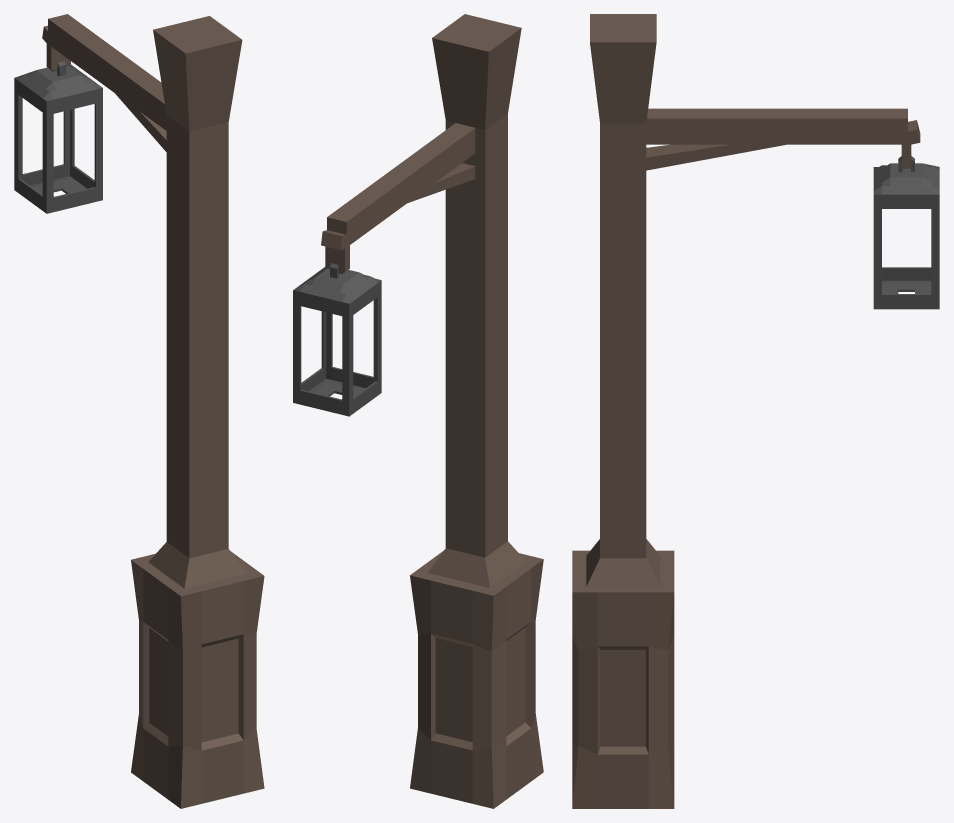
Rendered from Lamp.fbx.
The picture shows the model from 3 angles, left to right: view 1: azimuth 30°, elevation 25°; view 2: azimuth 150°, elevation 25°; view 3: azimuth 270°, elevation 25°; orthographic projection.
Parts seen in each view (by area): view 1: Cube.004, Cube, Cube.005; view 2: Cube.004, Cube, Cube.005; view 3: Cube.004, Cube, Cube.005.
Boxes of the visible parts, x1,y1,x2,y2 form: Cube.004: (42, 14, 246, 588); Cube: (131, 551, 264, 808); Cube.005: (14, 61, 102, 213); Cube.004: (321, 14, 526, 587); Cube: (410, 551, 543, 808); Cube.005: (293, 263, 381, 416); Cube.004: (586, 14, 920, 586); Cube: (572, 550, 674, 808); Cube.005: (873, 156, 939, 309).
Bounding box in the file's own units: 126 × 1070 × 469.
